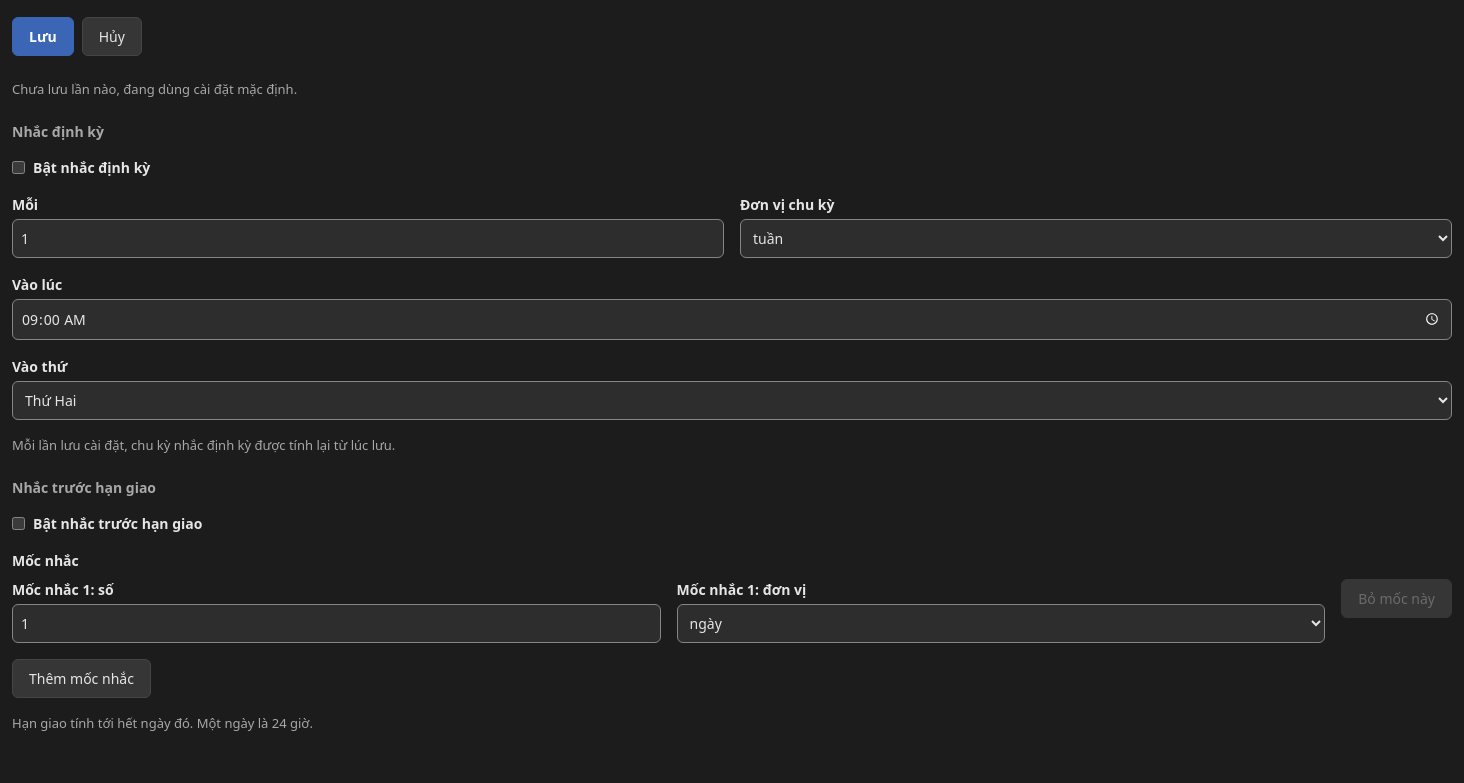
Scenario: page reminder_settings: saving › rejected input: the words beside the fields, the summary, the draft kept, the text cursor on the first field in the order of the screen
The width and height of the screenshot is (1464, 783).
Clear the field labelled "Mỗi" at (368, 238), box [12,218,724,258]
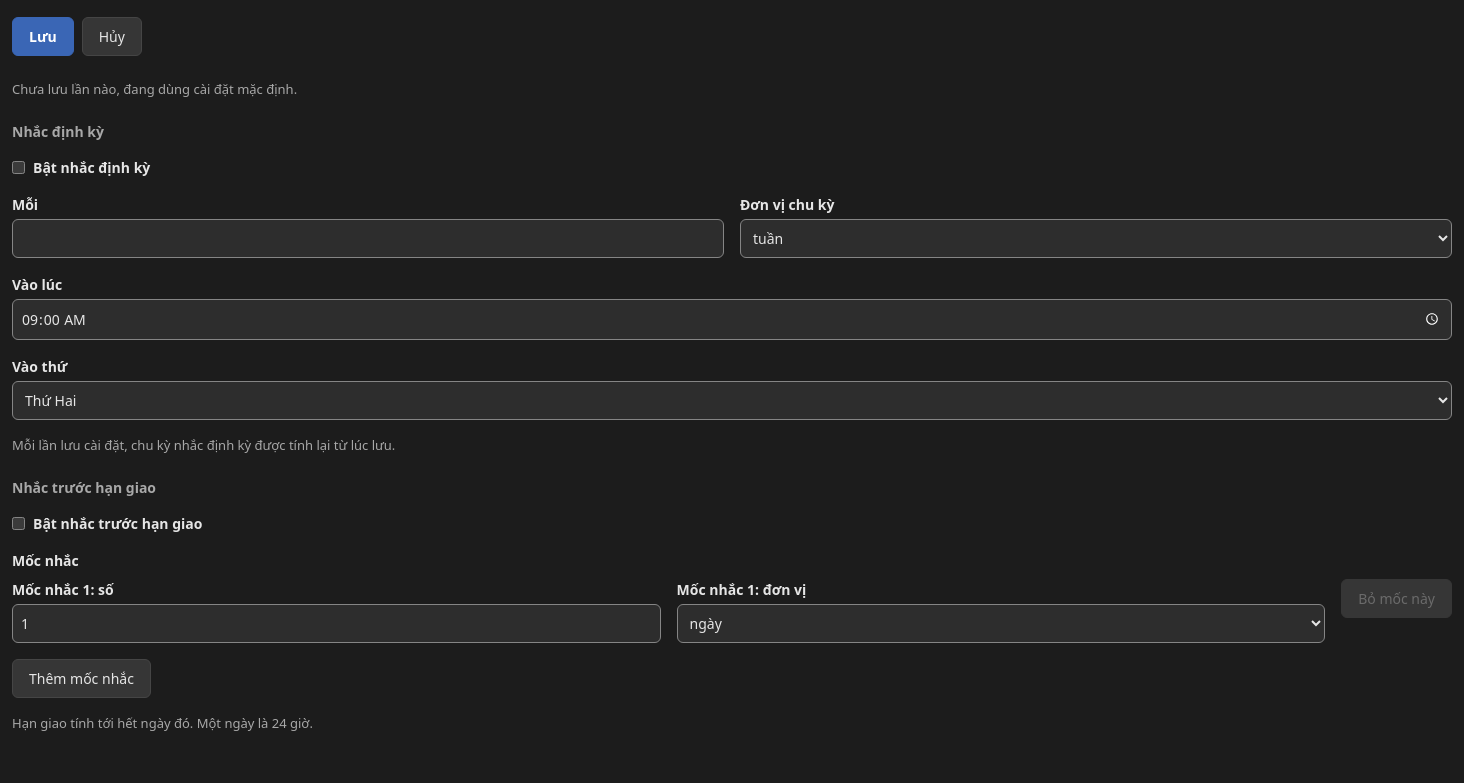
Clear the time field labelled "Vào lúc" at (732, 319), box [12,298,1452,340]
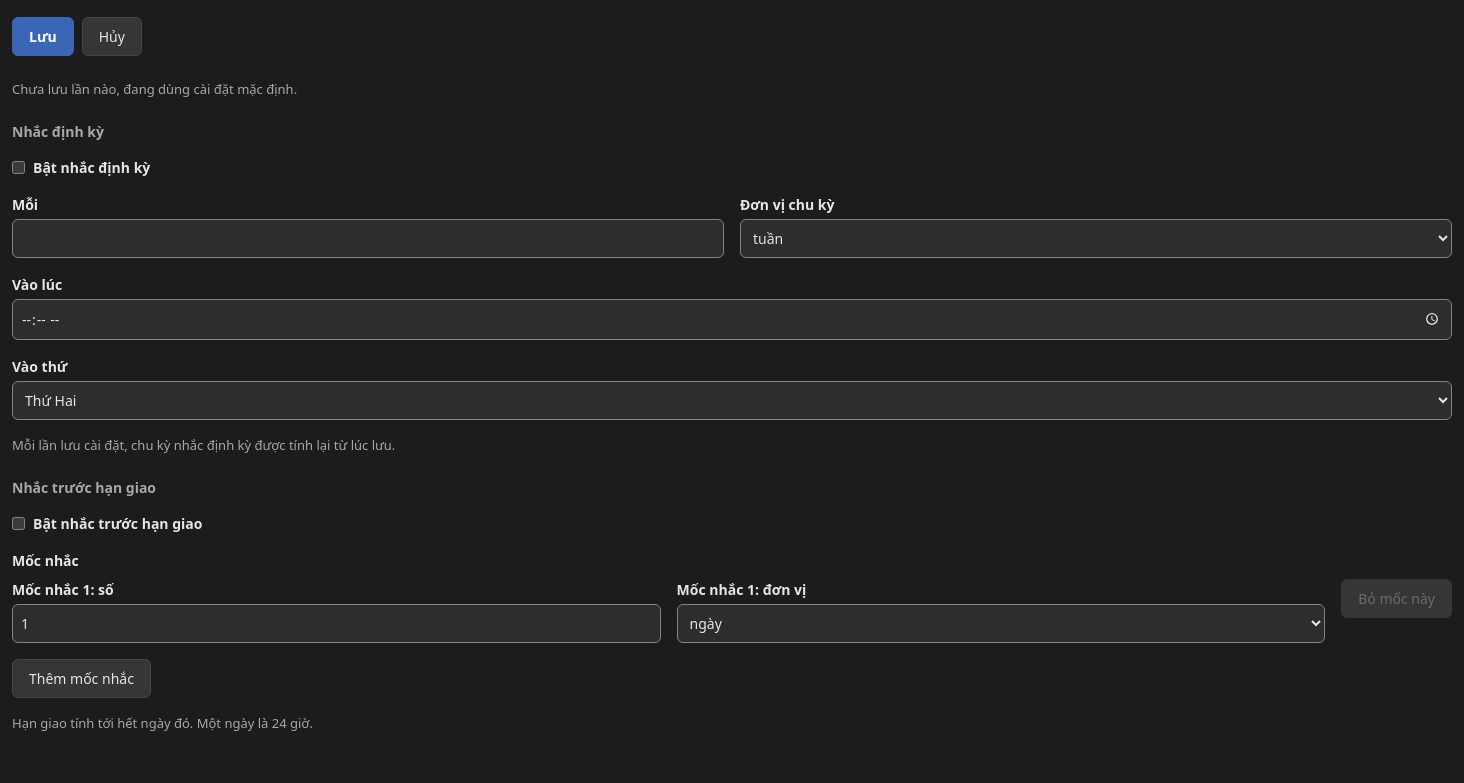
Replace the text in the field labelled "Mốc nhắc 1: số" with "999" at (336, 623), box [12,604,661,642]
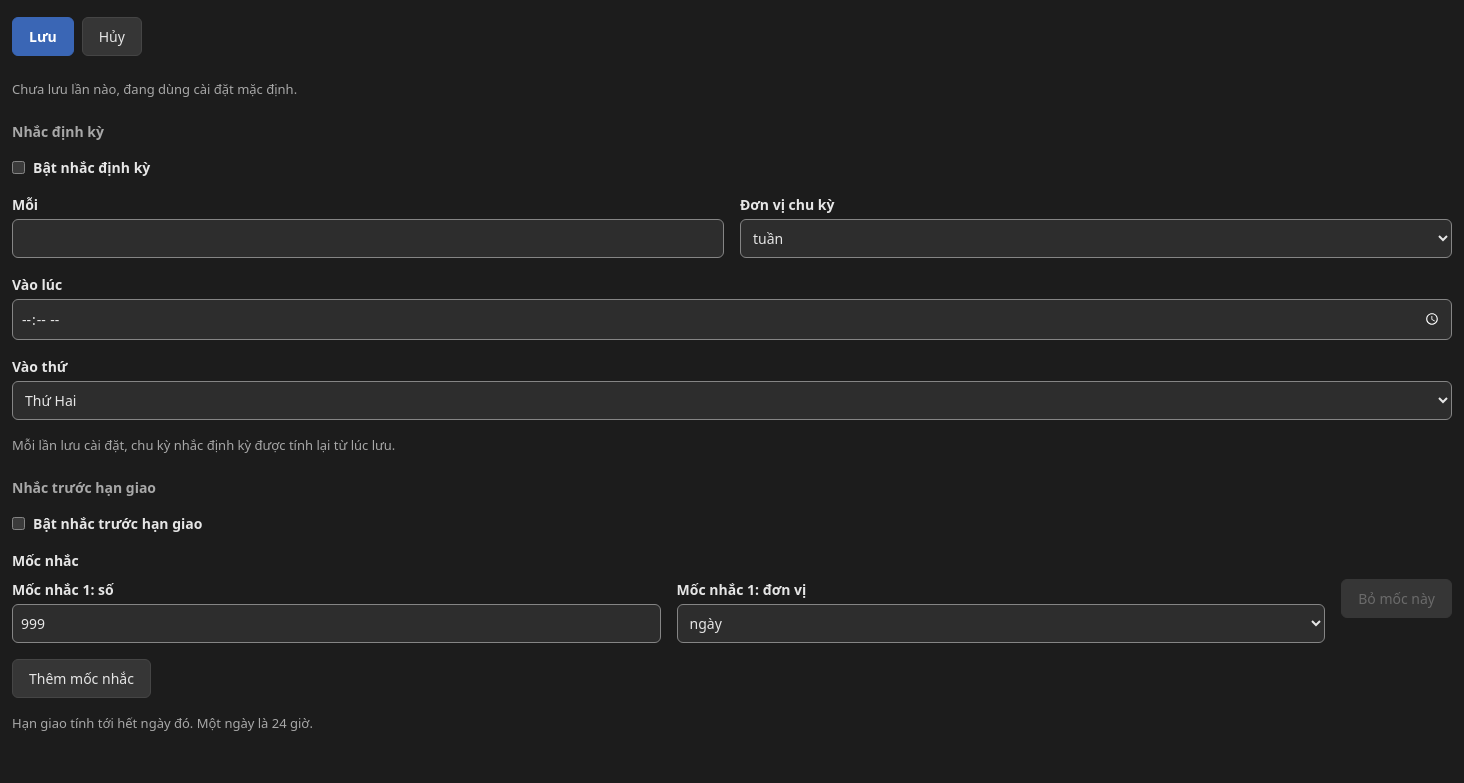
Click the button "Lưu" at (43, 36), box [12,16,74,56]
(page scrolled)
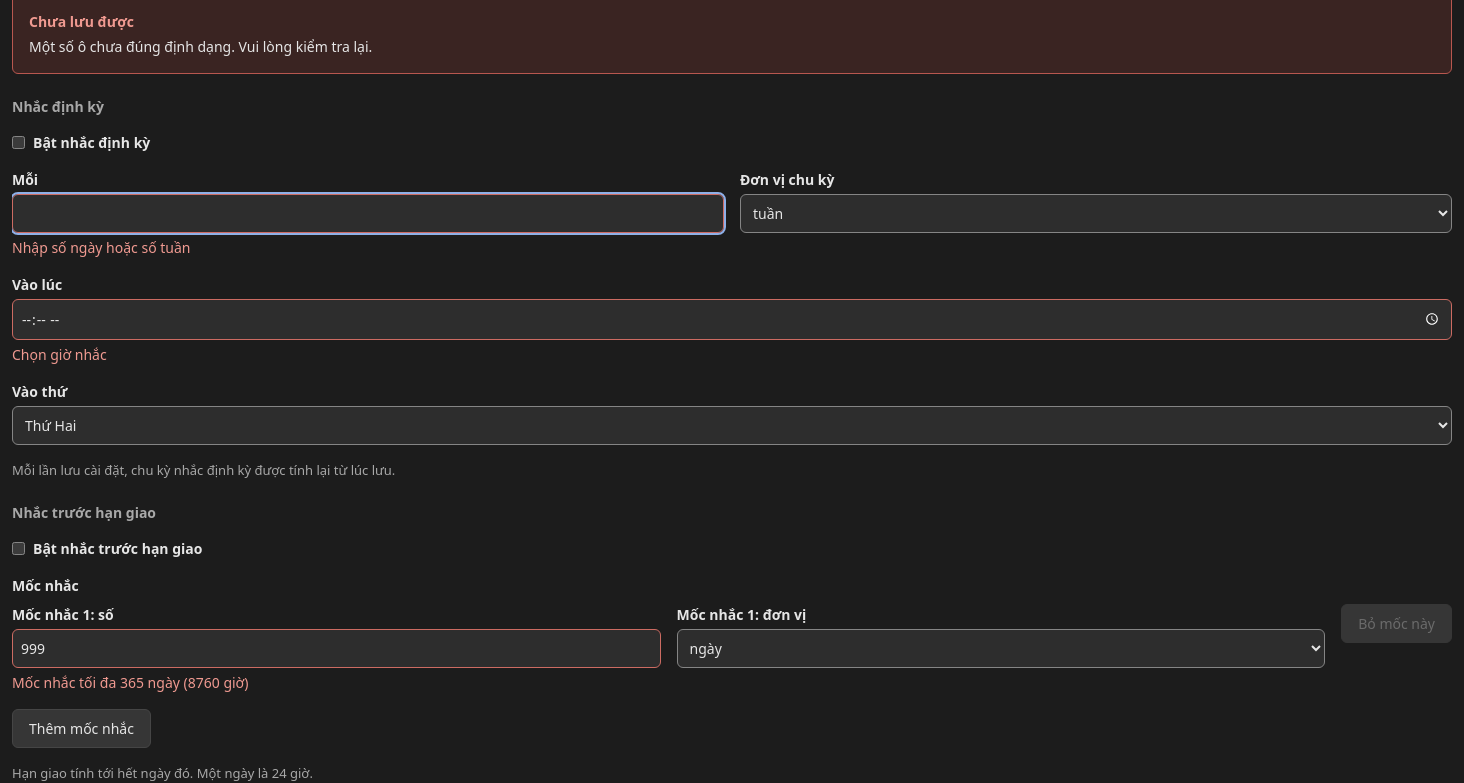
Check: the message shows "Một số ô chưa đúng định dạng. Vui lòng kiểm tra lại.", box [29,37,372,56]
Check: the text "Nhập số ngày hoặc số tuần" is shown, box [12,238,190,256]
Check: the text "Chọn giờ nhắc" is shown, box [12,344,107,364]
